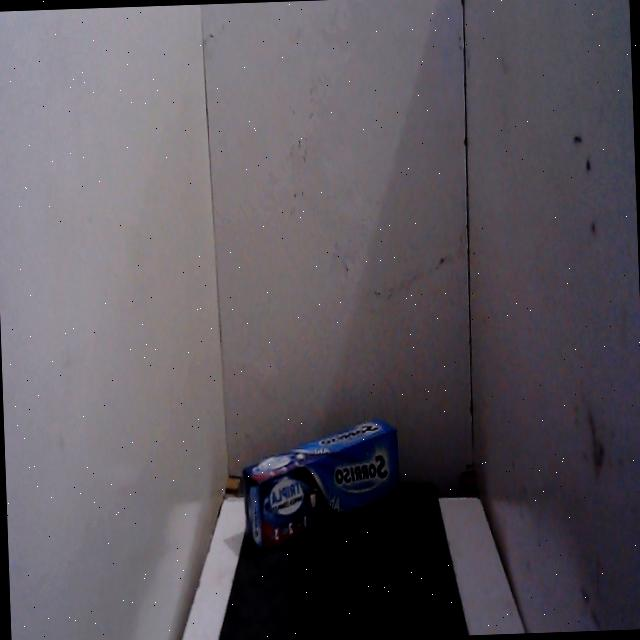papel: (233, 404, 408, 560)
